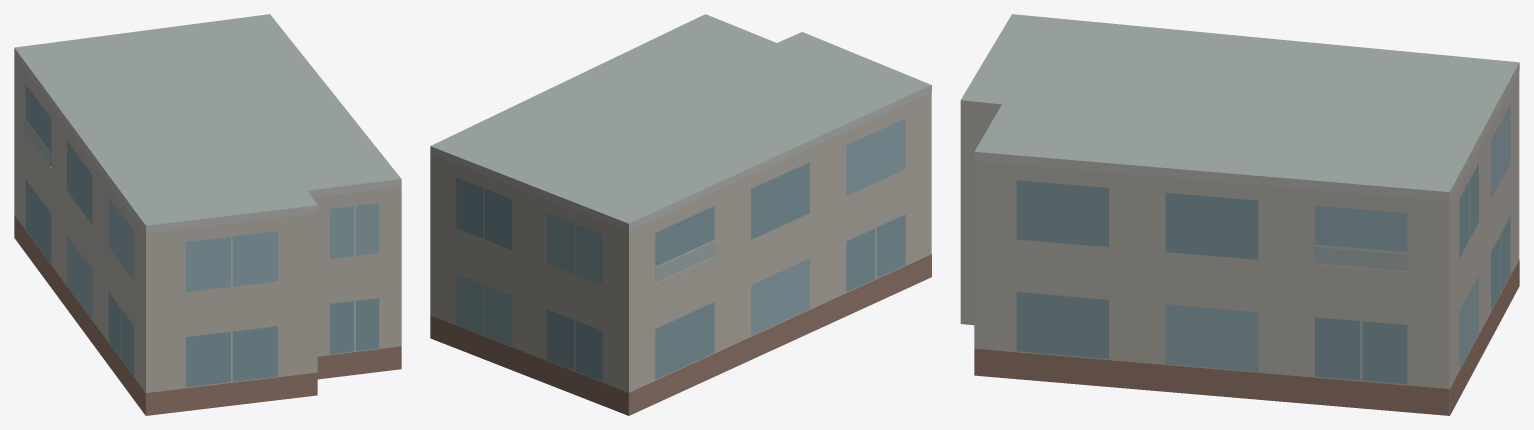
File: survey-upis-32811373.glb
3 views of the same model, side by side, from view 1: azimuth 30°, elevation 25°; view 2: azimuth 150°, elevation 25°; view 3: azimuth 270°, elevation 25° (orthographic). The views are drawn at different scales.
Visible parts, largest first — view 1: survey-upis-32811373.tmp; view 2: survey-upis-32811373.tmp; view 3: survey-upis-32811373.tmp.
Part boxes in pixels (box(x1,y1,x2,y2)): survey-upis-32811373.tmp: box(14, 14, 401, 415); survey-upis-32811373.tmp: box(430, 14, 931, 415); survey-upis-32811373.tmp: box(960, 14, 1519, 415).
Bounding box in the file's own units: 10.42 × 6.1 × 13.82.
